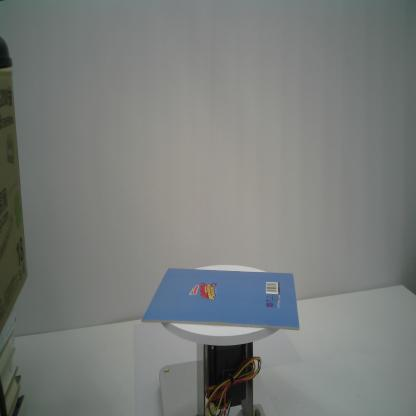Stationery: (140, 267, 300, 331)
